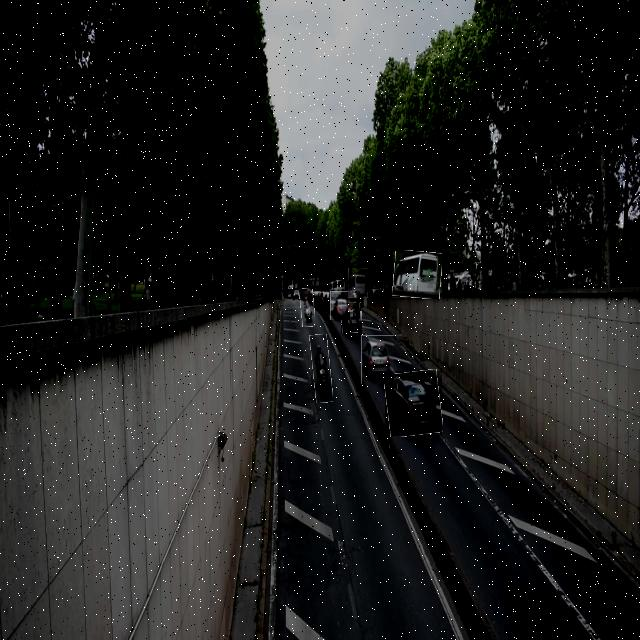Bus: (393, 252, 442, 298), (348, 268, 368, 298)
Car: (385, 371, 442, 436), (361, 335, 394, 384), (330, 291, 353, 320), (342, 303, 362, 333)
Motorcycle: (311, 335, 332, 403), (300, 289, 315, 327)
